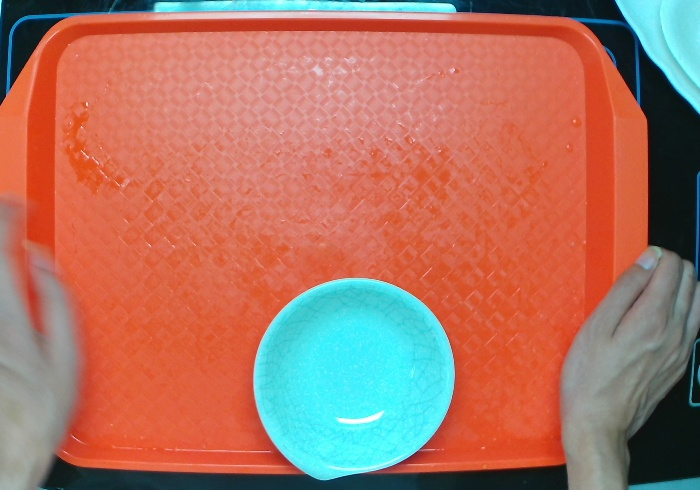RJxy-Xiao_Jiao_Yuan_Wan: (248, 270, 459, 483)
